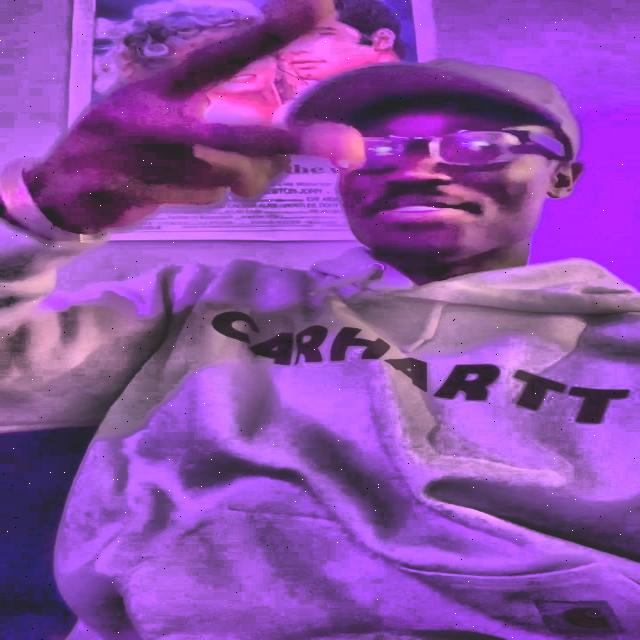not-gloved: (25, 0, 363, 236)
